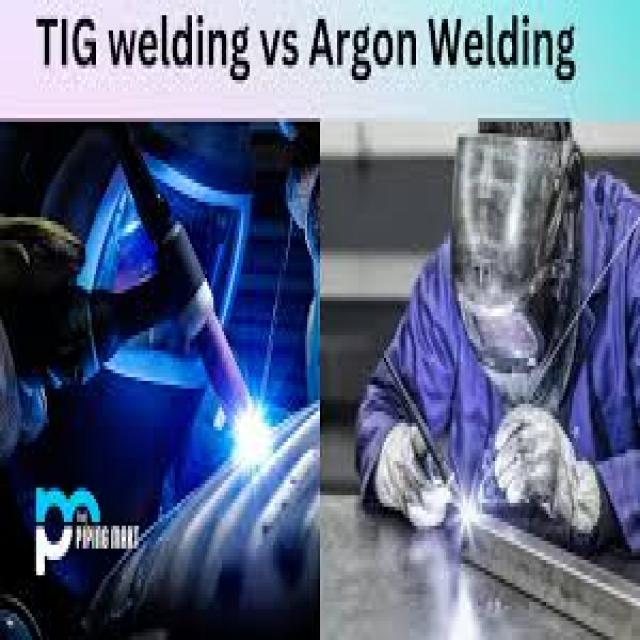welding: (240, 406, 276, 468), (460, 494, 478, 525)
